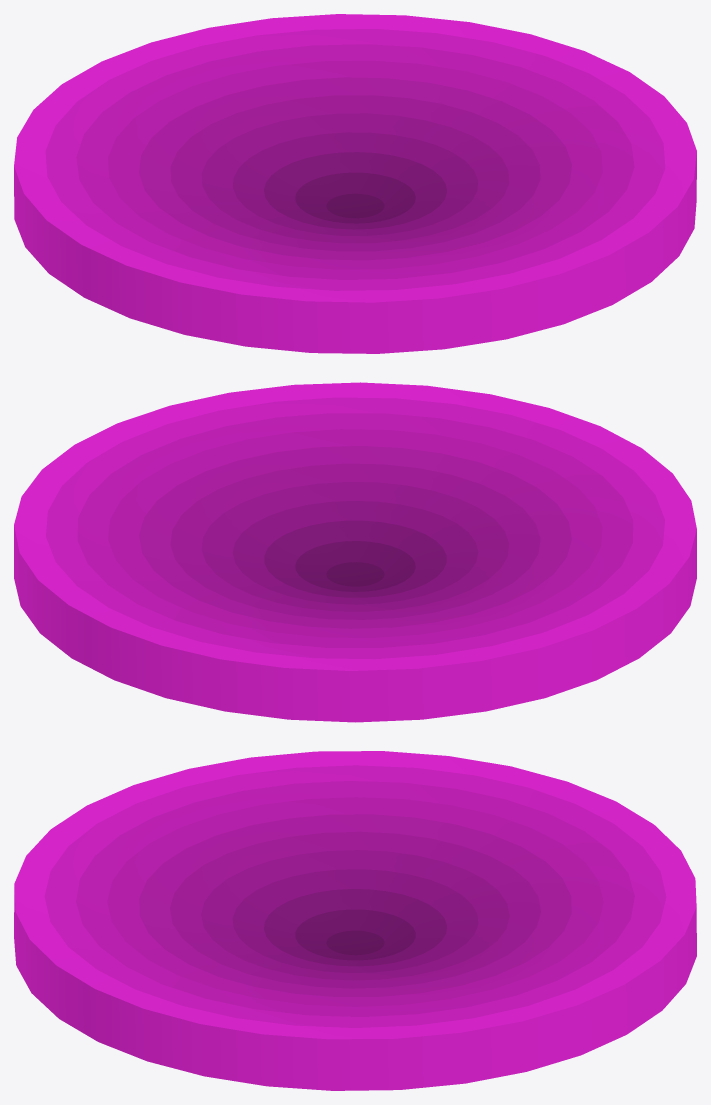
Rendered from portal.glb.
3 renders of one model, top to bottom at view 1: azimuth 30°, elevation 25°; view 2: azimuth 150°, elevation 25°; view 3: azimuth 270°, elevation 25°, orthographic.
Parts seen in each view (by area): view 1: portal; view 2: portal; view 3: portal.
Part boxes in pixels (left/top/right/bottom): portal: left=14, top=14, right=696, bottom=353; portal: left=14, top=382, right=696, bottom=722; portal: left=14, top=751, right=696, bottom=1090.
Size of the model in its own units: 2.99 by 0.2491 by 2.99.
